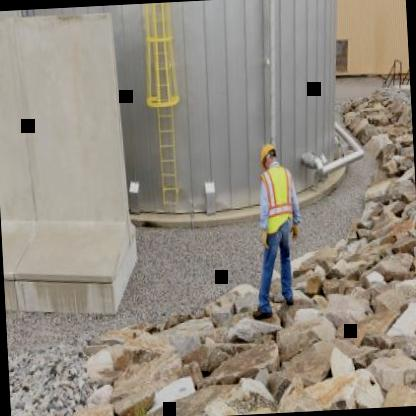helmet: (258, 141, 279, 177)
